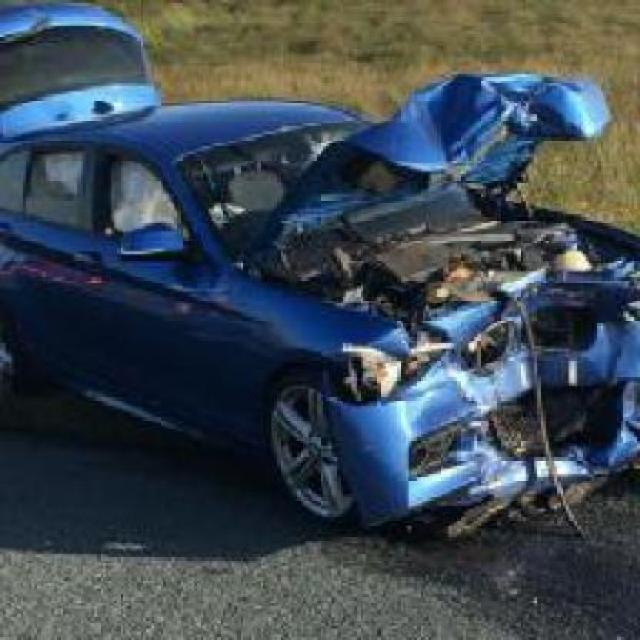damaged-front-bumper: (340, 337, 637, 500)
damaged-hood: (302, 76, 638, 310)
